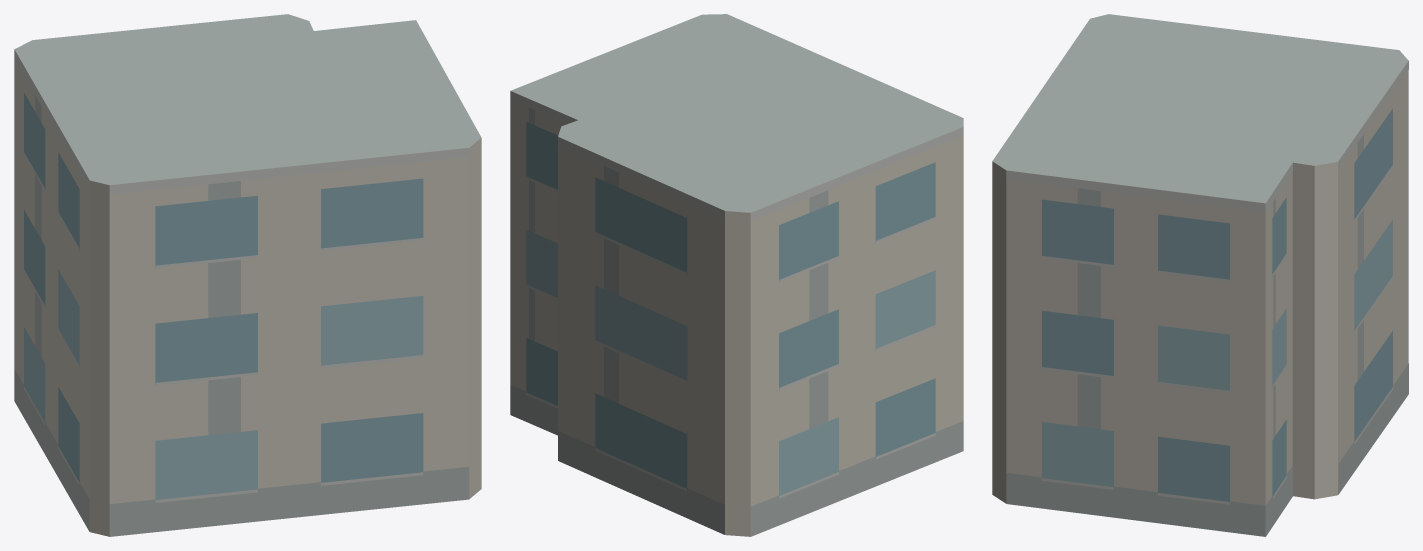
Rendered from survey-upis-32980301.glb.
The picture shows the model from 3 angles, left to right: view 1: azimuth 30°, elevation 25°; view 2: azimuth 150°, elevation 25°; view 3: azimuth 270°, elevation 25°; orthographic projection. The views are drawn at different scales.
Visible parts, largest first — view 1: survey-upis-32980301.tmp; view 2: survey-upis-32980301.tmp; view 3: survey-upis-32980301.tmp.
Part boxes in pixels (left/top/right/bottom): survey-upis-32980301.tmp: left=14, top=14, right=481, bottom=536; survey-upis-32980301.tmp: left=510, top=14, right=963, bottom=536; survey-upis-32980301.tmp: left=992, top=14, right=1408, bottom=536.
Size of the model in its own units: 11.15 by 9.15 by 10.37.
